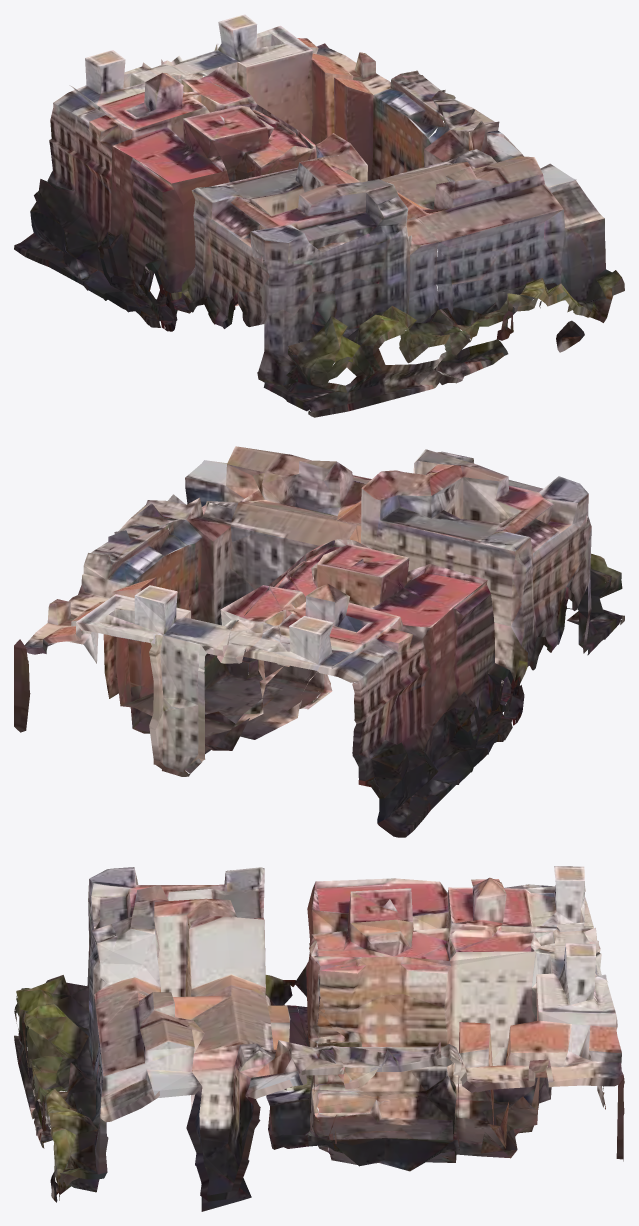
3 views of the same model, one above another, from view 1: azimuth 30°, elevation 25°; view 2: azimuth 150°, elevation 25°; view 3: azimuth 270°, elevation 25° (orthographic). The views are drawn at different scales.
Visible parts, largest first — view 1: Mesh_0; view 2: Mesh_0; view 3: Mesh_0.
Part boxes in pixels (<box>): Mesh_0: <box>14,14,624,417</box>; Mesh_0: <box>14,446,624,837</box>; Mesh_0: <box>14,866,624,1211</box>.
Bounding box in the file's own units: 66.6 × 30.96 × 82.45.
Materials: 1 (1 with a texture image).
